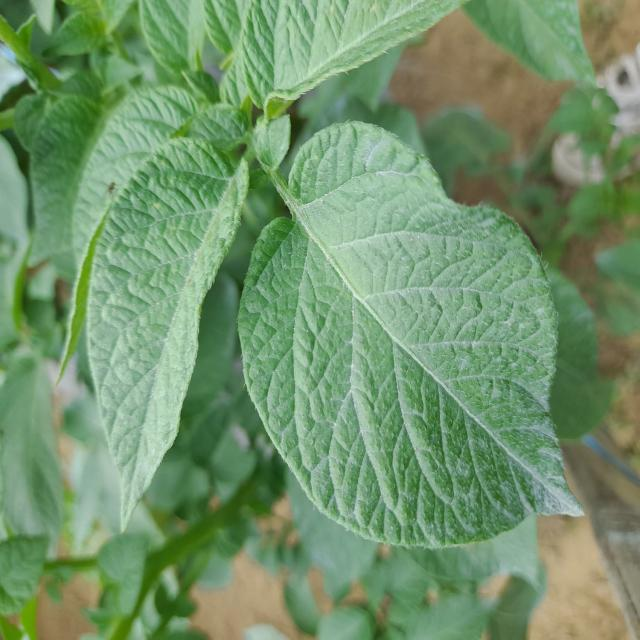healthy: (235, 118, 586, 552)
